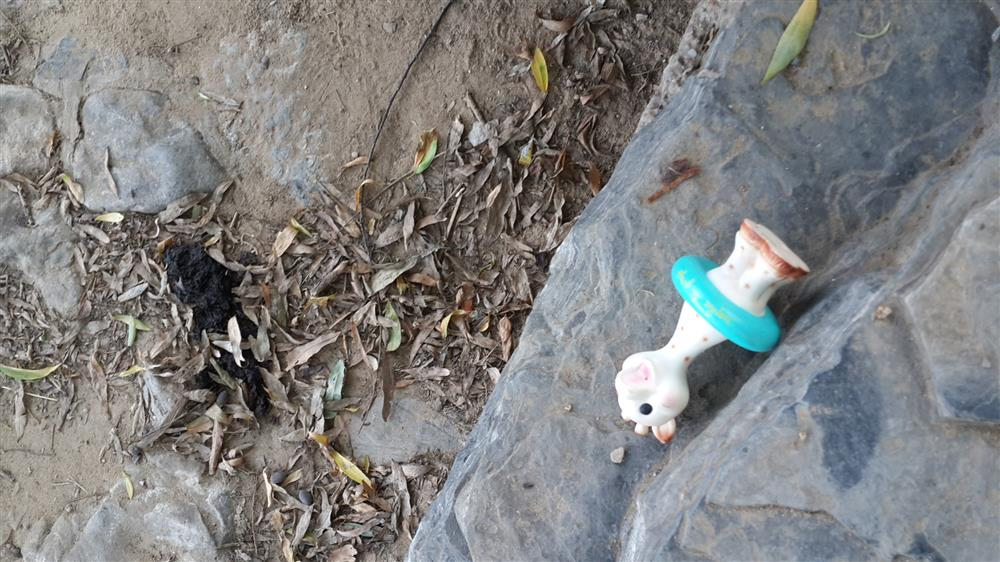toy_deer: (609, 202, 805, 443)
